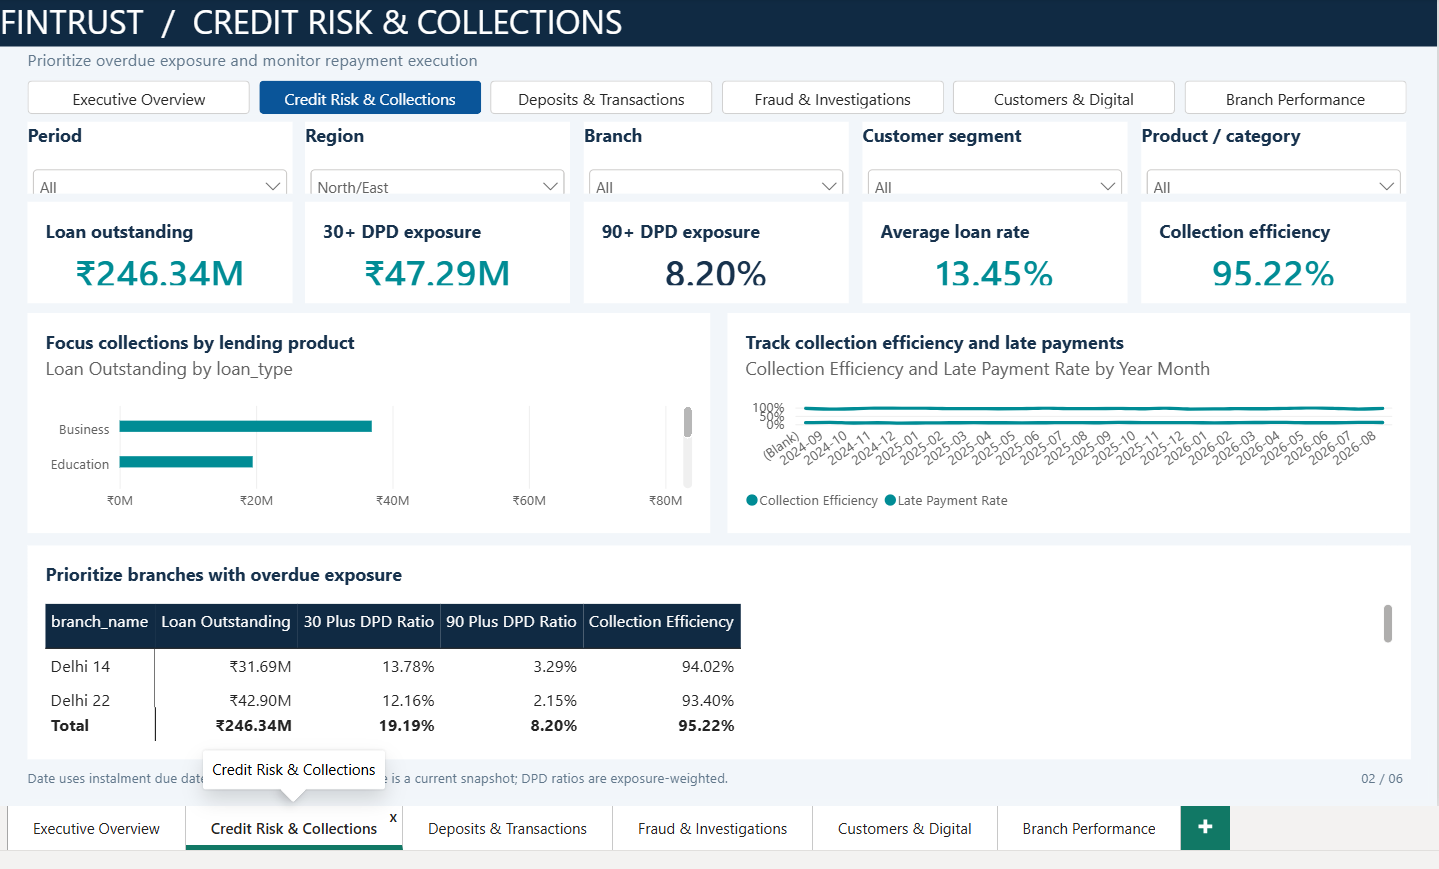

Layout of this report page (visuals, bound fields, positions):
{"tool":"powerbi","page":{"name":"Credit Risk & Collections","canvas":[1280,720],"ordinal":1},"visuals":[{"type":"textbox","box":[0,0,1280,43],"z":18},{"type":"textbox","box":[24,45,1232,26],"z":18},{"type":"pageNavigator","box":[24,74,1232,30],"z":18},{"type":"slicer","title":"Period","fields":{"Values":["Date.Year Month"]},"box":[24,110,236,64],"z":18},{"type":"slicer","title":"Region","fields":{"Values":["branches.region"]},"box":[272,110,236,64],"z":18},{"type":"slicer","title":"Branch","fields":{"Values":["branches.branch_name"]},"box":[520,110,236,64],"z":18},{"type":"slicer","title":"Customer segment","fields":{"Values":["customers.occupation_segment"]},"box":[768,110,236,64],"z":18},{"type":"slicer","title":"Product / category","fields":{"Values":["loans.loan_type"]},"box":[1016,110,236,64],"z":18},{"type":"card","title":"Loan outstanding","fields":{"Values":["loans.Loan Outstanding"]},"box":[24,182,236,90],"z":18},{"type":"card","title":"30+ DPD exposure","fields":{"Values":["loans.30 Plus DPD Exposure"]},"box":[272,182,236,90],"z":18},{"type":"card","title":"90+ DPD exposure","fields":{"Values":["loans.90 Plus DPD Ratio"]},"box":[520,182,236,90],"z":18},{"type":"card","title":"Average loan rate","fields":{"Values":["loans.Average Portfolio Yield"]},"box":[768,182,236,90],"z":18},{"type":"card","title":"Collection efficiency","fields":{"Values":["loan_payments.Collection Efficiency"]},"box":[1016,182,236,90],"z":18},{"type":"clusteredBarChart","title":"Focus collections by lending product","fields":{"Category":["loans.loan_type"],"Y":["loans.Loan Outstanding"]},"box":[24,280,608,196],"z":18},{"type":"lineChart","title":"Track collection efficiency and late payments","fields":{"Category":["Date.Year Month"],"Y":["loan_payments.Collection Efficiency","loan_payments.Late Payment Rate"]},"box":[648,280,608,196],"z":18},{"type":"pivotTable","title":"Prioritize branches with overdue exposure","fields":{"Rows":["branches.branch_name"],"Values":["loans.Loan Outstanding","loans.30 Plus DPD Ratio","loans.90 Plus DPD Ratio","loan_payments.Collection Efficiency"]},"box":[24,488,1232,190],"z":18},{"type":"textbox","box":[24,684,1190,30],"z":18},{"type":"textbox","box":[1212,684,60,30],"z":18}]}

Visuals, with their boxes on the page's 1280x720 design canvas (x1, y1, x2, y2). These are canvas units, not pixel positions in the 1439x869 screenshot, which may show the page scaled, cropped or inside an application window:
textbox: left=0, top=0, right=1280, bottom=43
textbox: left=24, top=45, right=1256, bottom=71
pageNavigator: left=24, top=74, right=1256, bottom=104
"Period" slicer: left=24, top=110, right=260, bottom=174
"Region" slicer: left=272, top=110, right=508, bottom=174
"Branch" slicer: left=520, top=110, right=756, bottom=174
"Customer segment" slicer: left=768, top=110, right=1004, bottom=174
"Product / category" slicer: left=1016, top=110, right=1252, bottom=174
"Loan outstanding" card: left=24, top=182, right=260, bottom=272
"30+ DPD exposure" card: left=272, top=182, right=508, bottom=272
"90+ DPD exposure" card: left=520, top=182, right=756, bottom=272
"Average loan rate" card: left=768, top=182, right=1004, bottom=272
"Collection efficiency" card: left=1016, top=182, right=1252, bottom=272
"Focus collections by lending product" clusteredBarChart: left=24, top=280, right=632, bottom=476
"Track collection efficiency and late payments" lineChart: left=648, top=280, right=1256, bottom=476
"Prioritize branches with overdue exposure" pivotTable: left=24, top=488, right=1256, bottom=678
textbox: left=24, top=684, right=1214, bottom=714
textbox: left=1212, top=684, right=1272, bottom=714
